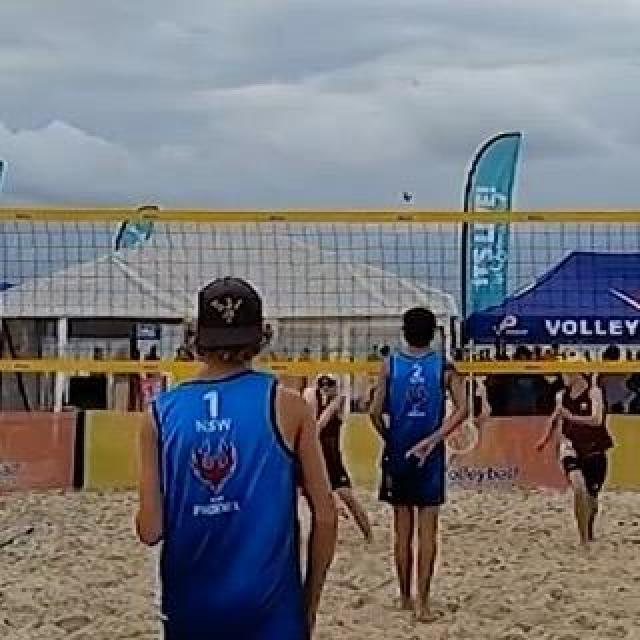volleyball: (299, 386, 327, 416)
